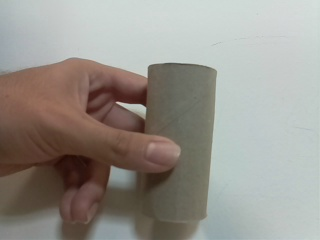rollo papel: (141, 60, 219, 225)
